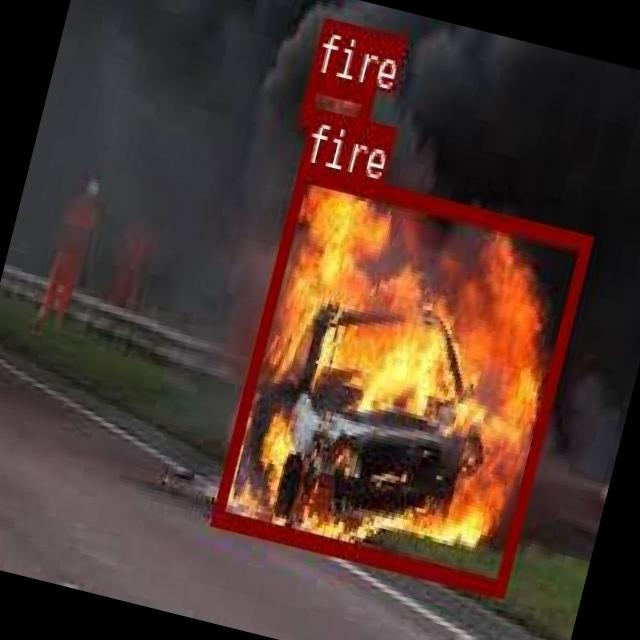fire: (208, 161, 590, 594), (298, 70, 374, 136)
